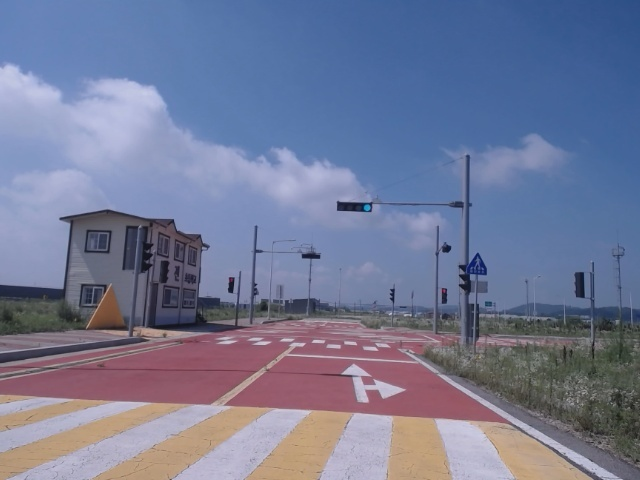straight_green_4: (338, 202, 371, 211)
